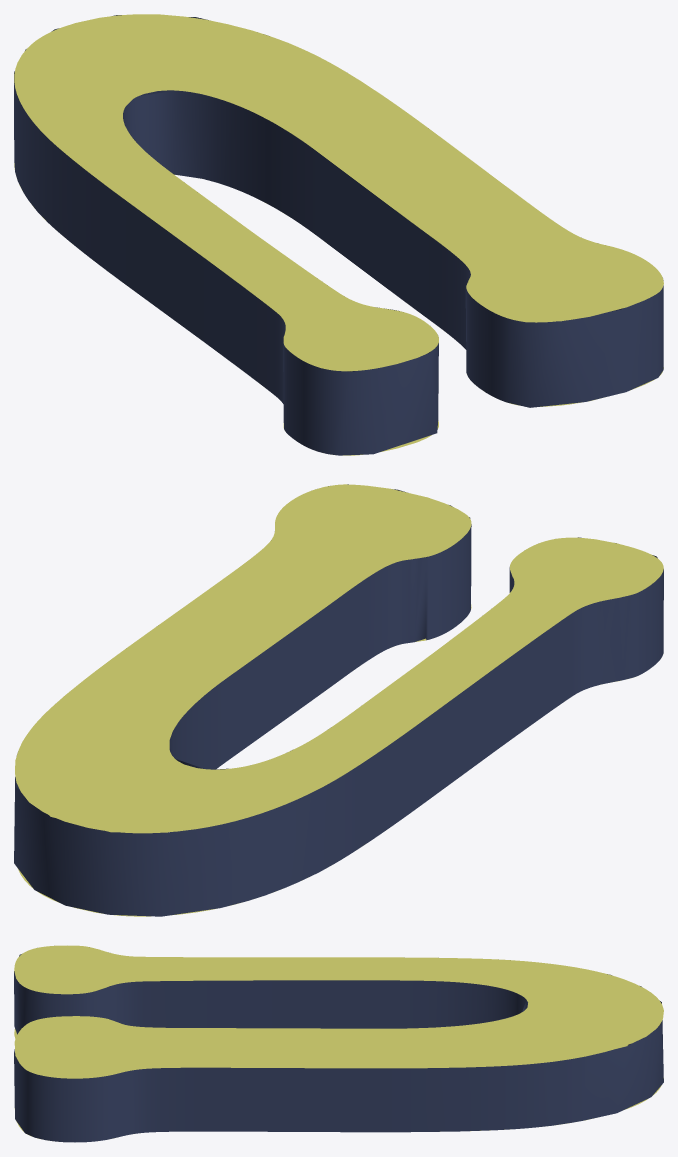
Rendered from u_boss.fbx.
3 views of the same model, one above another, from view 1: azimuth 30°, elevation 25°; view 2: azimuth 150°, elevation 25°; view 3: azimuth 270°, elevation 25° (orthographic). The views are drawn at different scales.
Visible parts, largest first — view 1: U; view 2: U; view 3: U.
Part boxes in pixels (x1,y1,x2,y2): U: [14, 14, 663, 455]; U: [14, 484, 663, 916]; U: [14, 945, 663, 1142].
Size of the model in its own units: 0.7151 by 0.1599 by 1.48.
